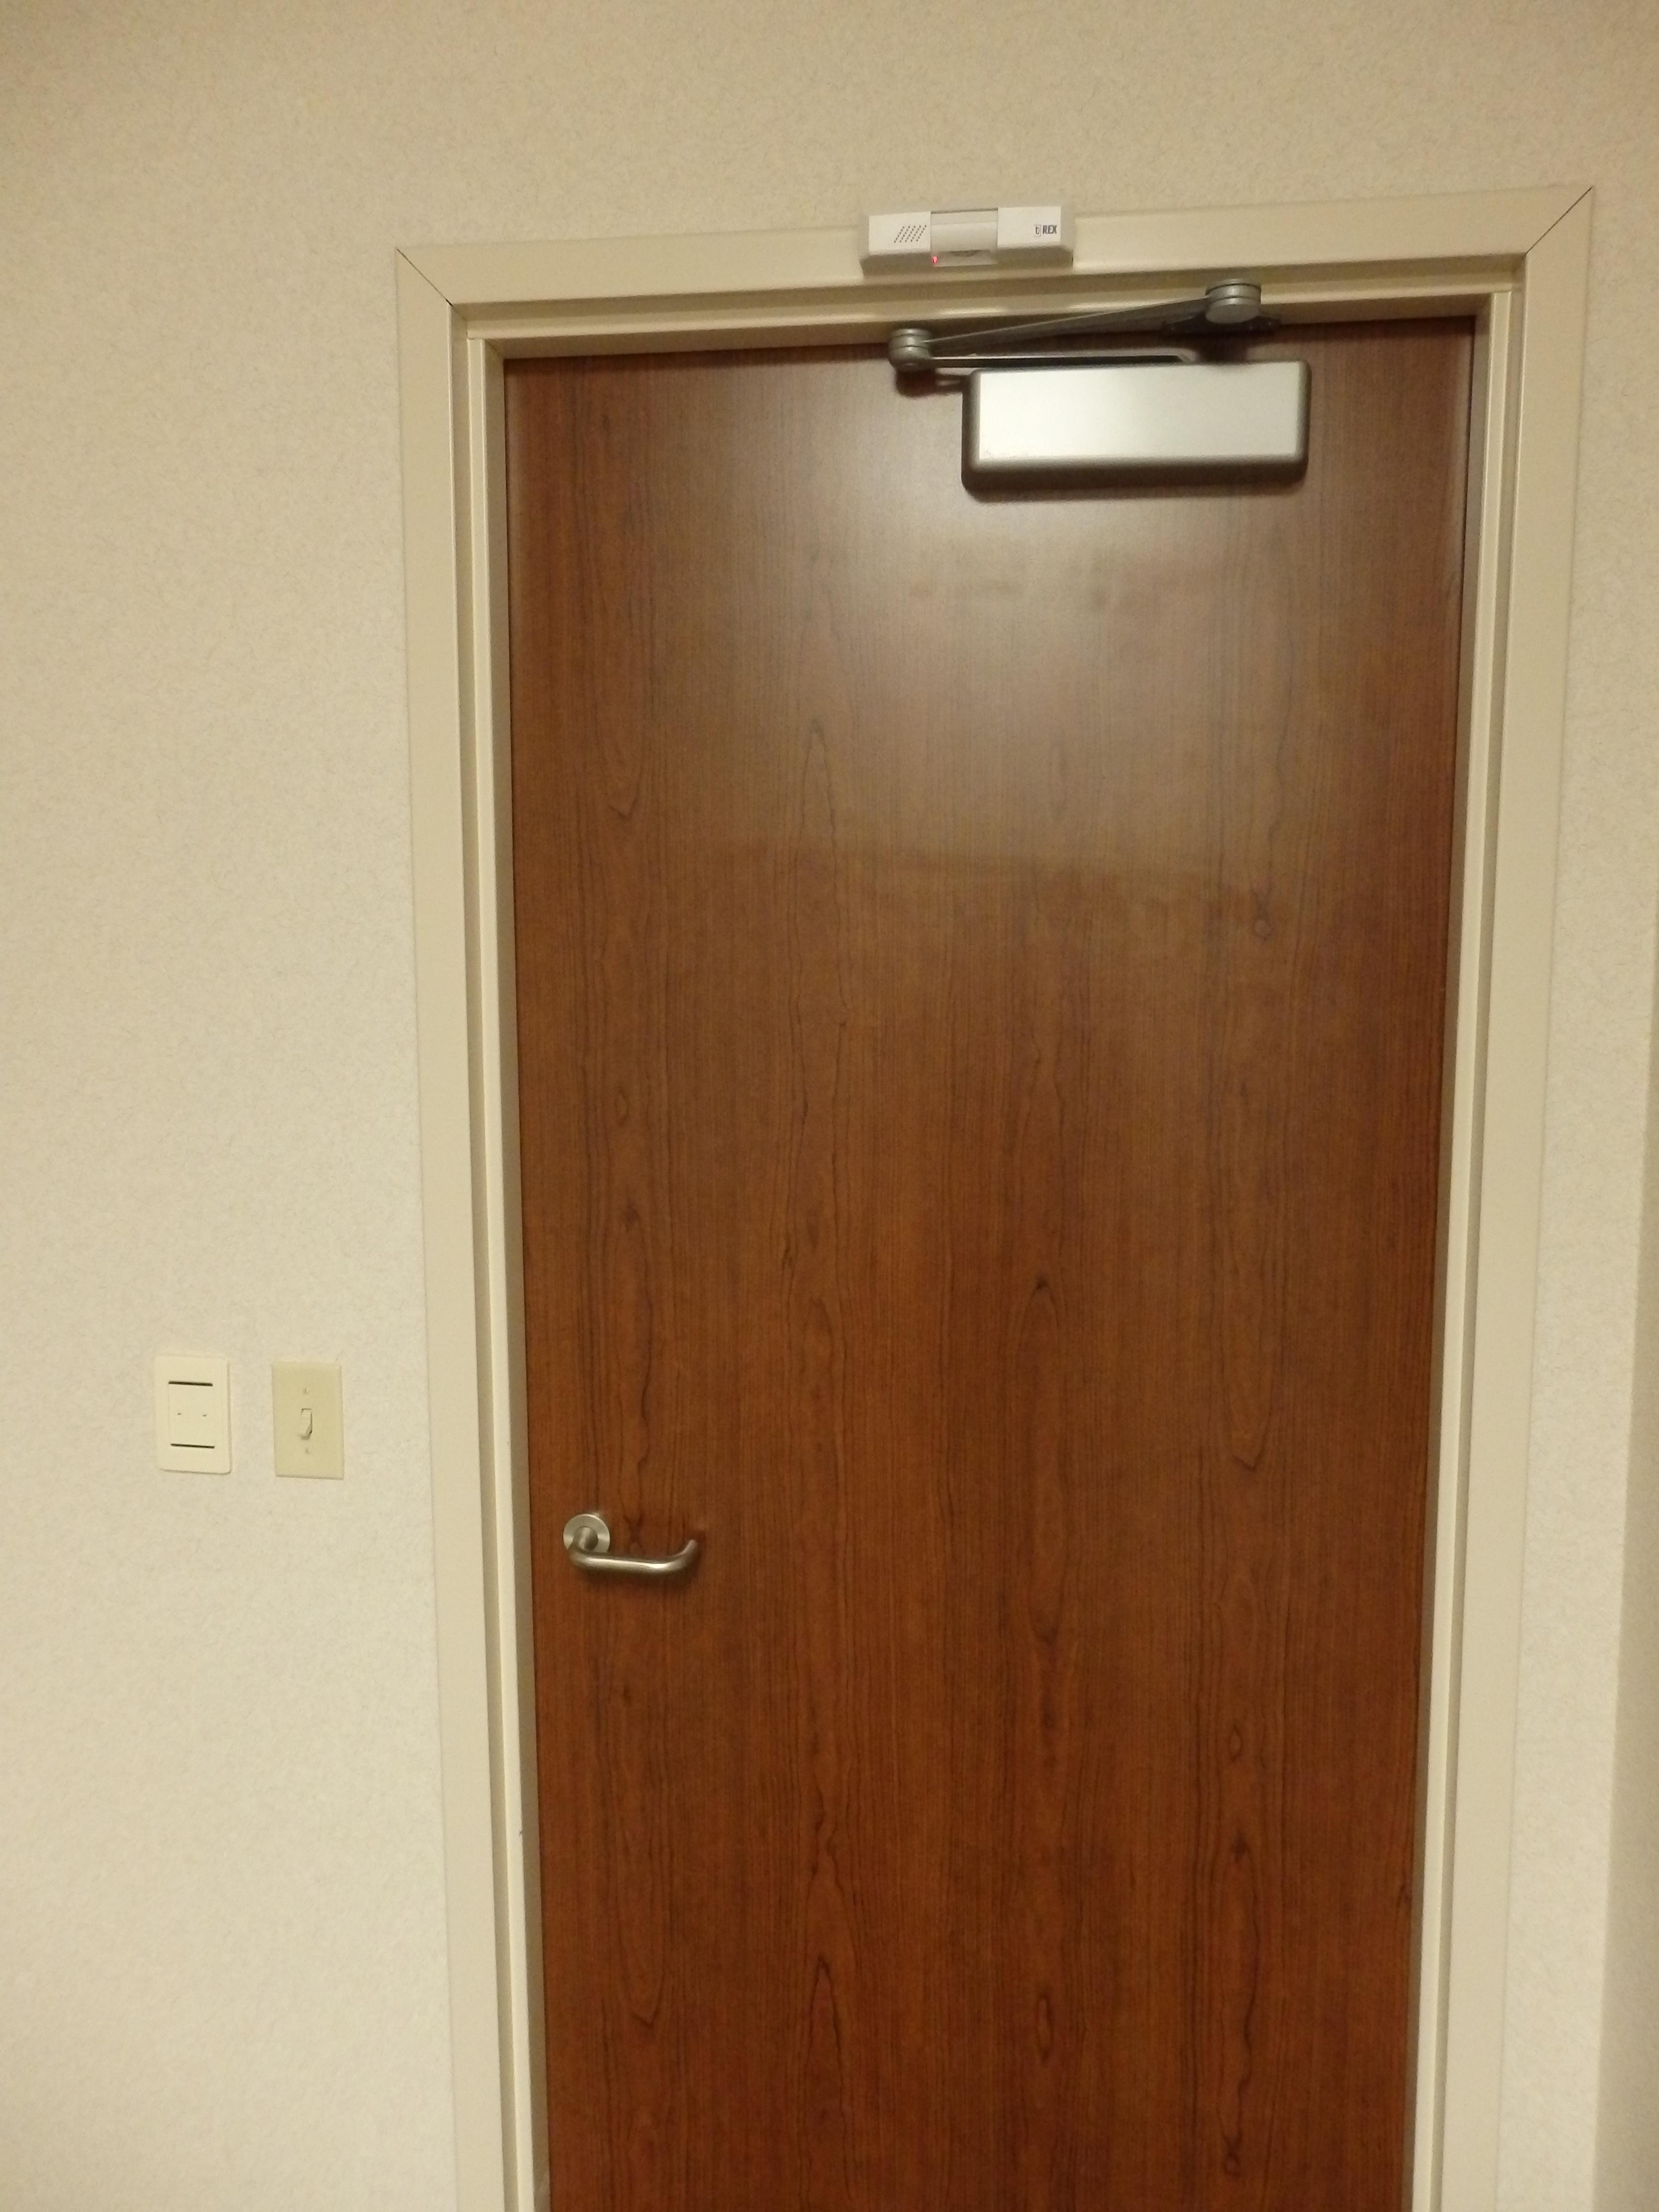door: (467, 308, 1432, 2196)
